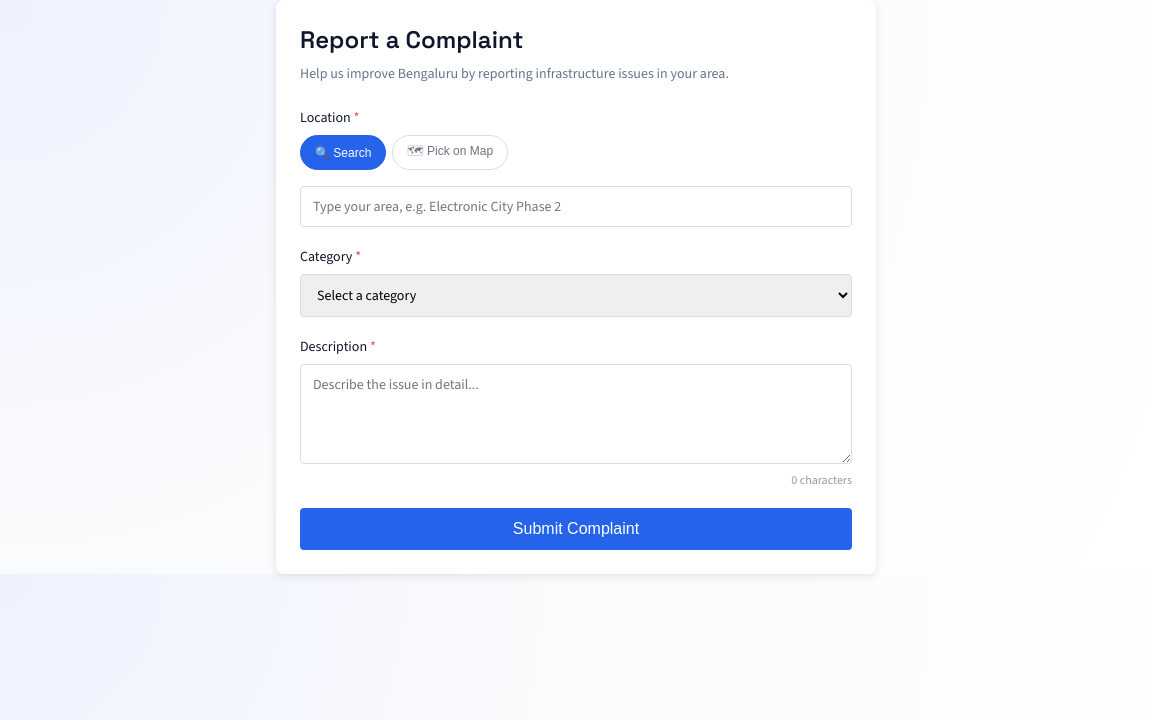
Test: ComplaintForm Integration Tests › character counter updates as user types
Expected: the text "0 characters" is shown, [791, 472, 852, 488]
// Type some text
Type "Test description" into the text box labelled "Description *". click: {"x": 576, "y": 414}
box: [300, 364, 852, 464]
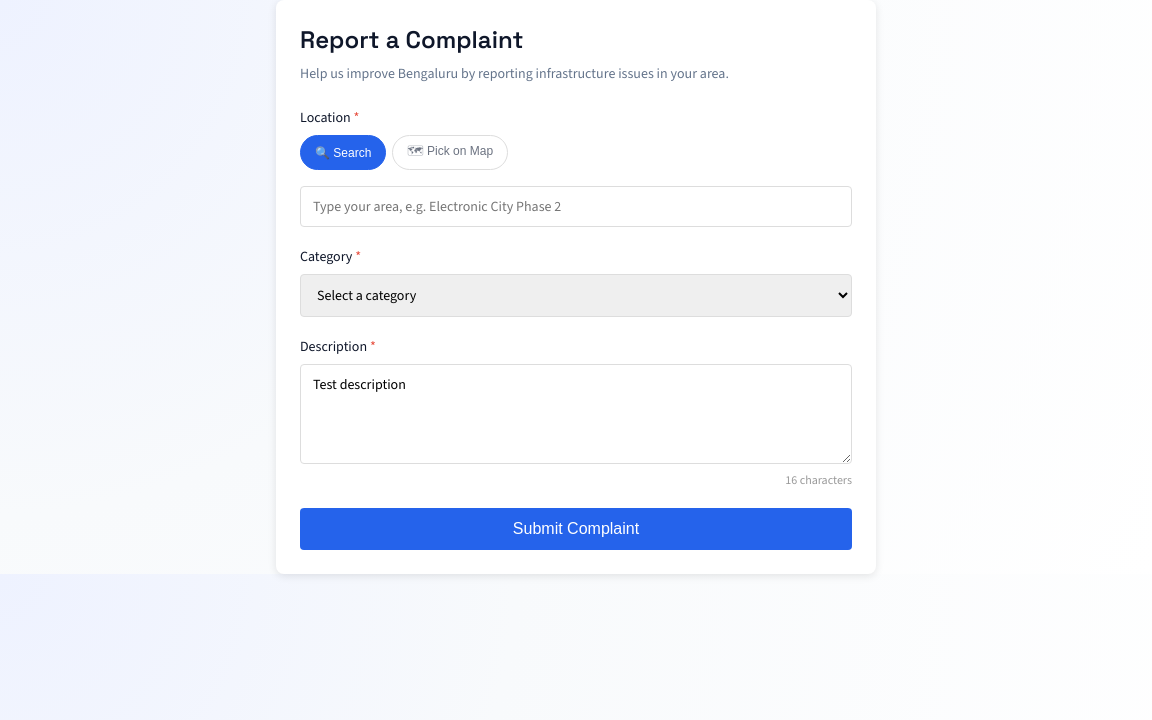
Expected: the text "16 characters" is shown, [785, 472, 852, 488]
